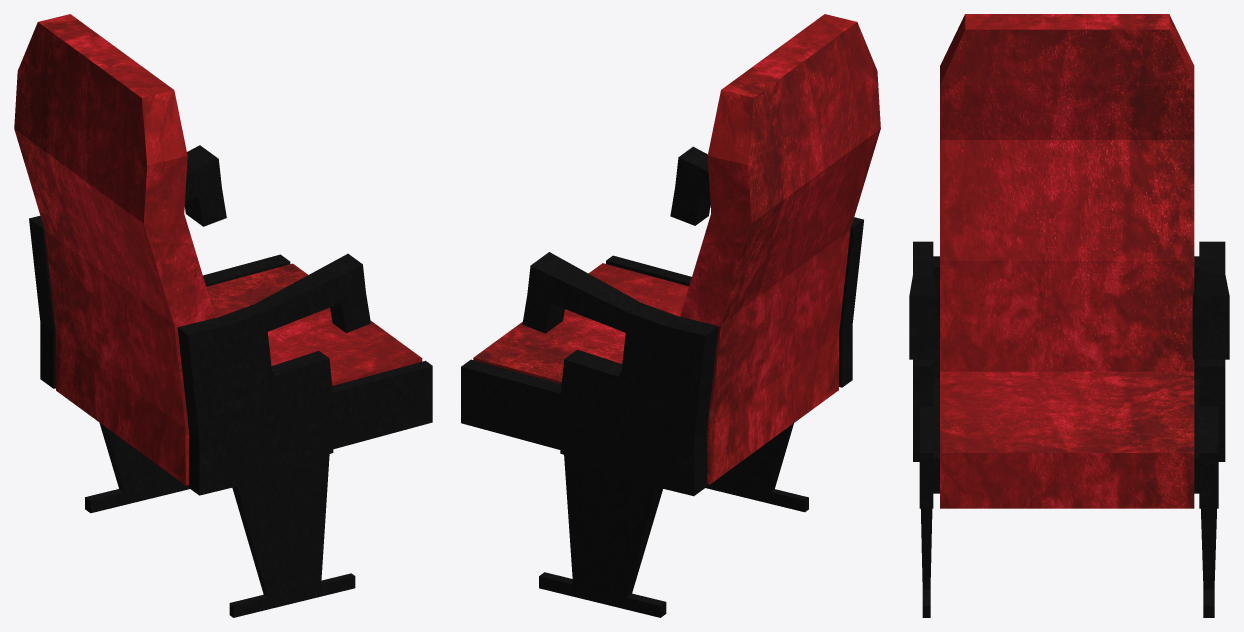
Rendered from cinemachair.FBX.
3 views of the same model, side by side, from view 1: azimuth 30°, elevation 25°; view 2: azimuth 150°, elevation 25°; view 3: azimuth 270°, elevation 25° (orthographic).
Visible parts, largest first — view 1: Box001; view 2: Box001; view 3: Box001.
Part boxes in pixels (x1=…): Box001: x1=14, y1=14, x2=432, y2=617; Box001: x1=461, y1=14, x2=880, y2=617; Box001: x1=909, y1=14, x2=1229, y2=617.
Bounding box in the file's own units: 89.96 × 161 × 91.11.
Materials: 2 (2 with a texture image).
